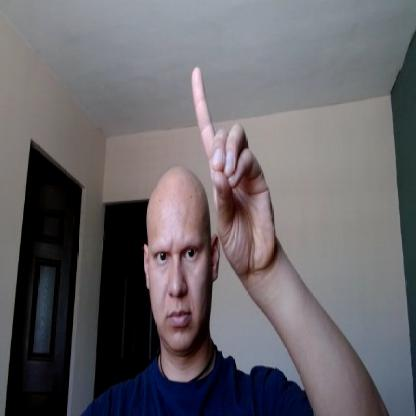D: (192, 66, 276, 276)
